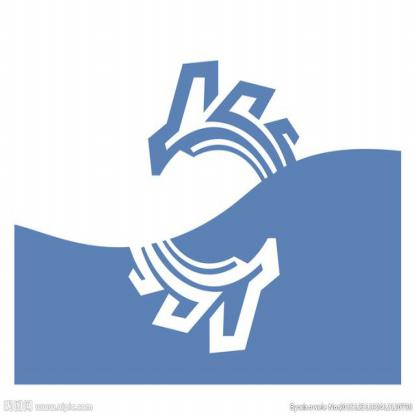FOD: (126, 222, 279, 354)
